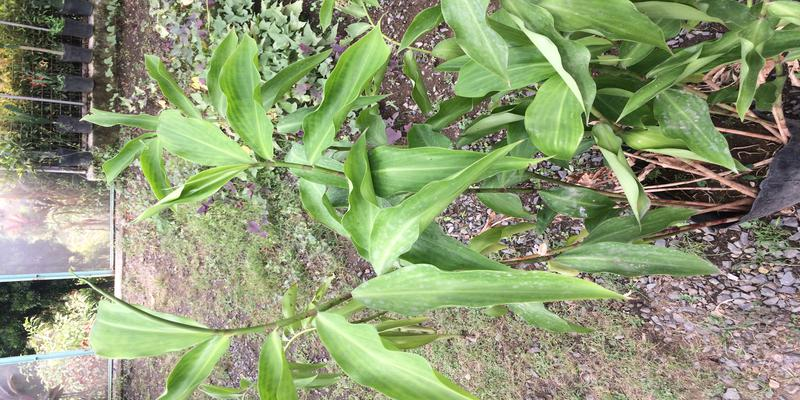Insulin: (129, 73, 750, 330)
